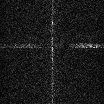wifi: (1, 43, 104, 47)
